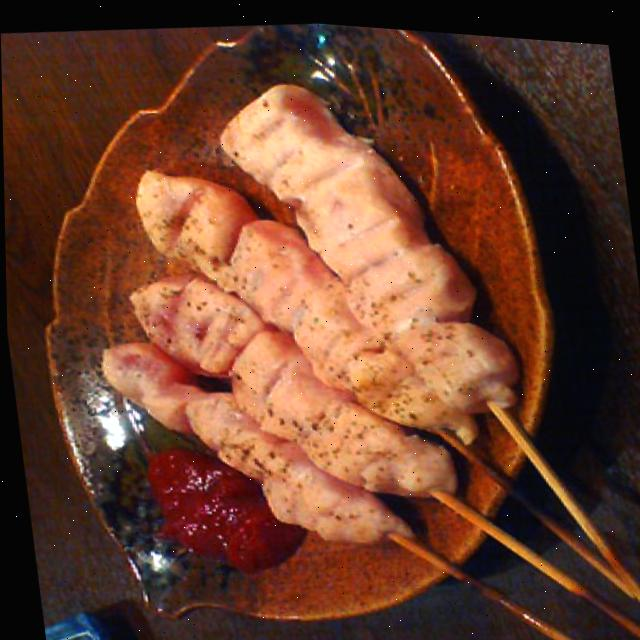烧串烤肉: (111, 46, 640, 640)
